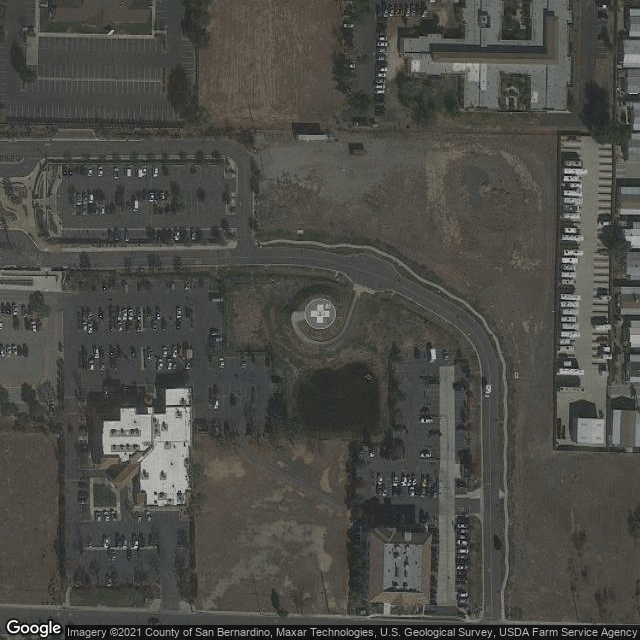Helipad: (303, 298, 341, 331)
